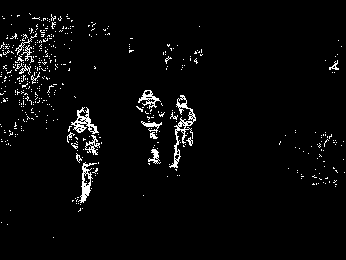person: (65, 104, 101, 214), (170, 90, 207, 169), (136, 88, 167, 167)
